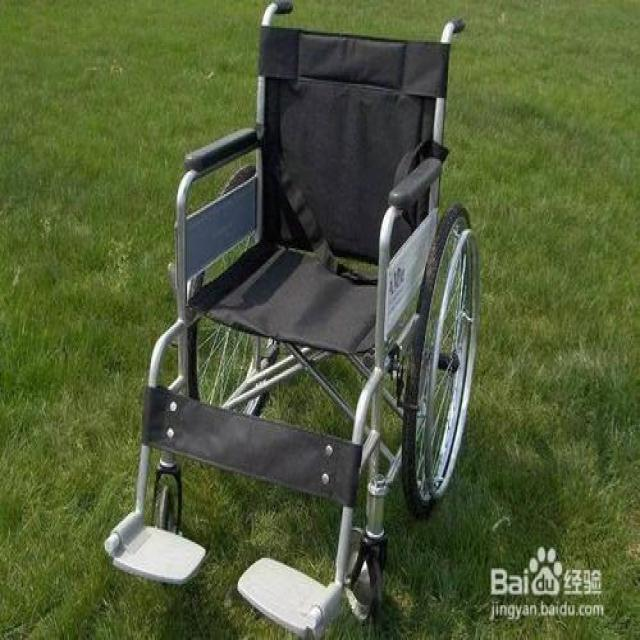wheelchairs: (96, 0, 480, 638)
